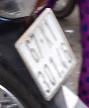0: (41, 63, 59, 87)
1: (42, 16, 59, 41), (48, 57, 64, 79)
3: (36, 68, 53, 94)
4: (54, 49, 72, 75)
5: (58, 42, 75, 64)
6: (23, 38, 42, 65)
7: (28, 33, 45, 56)
K: (36, 24, 56, 49)
